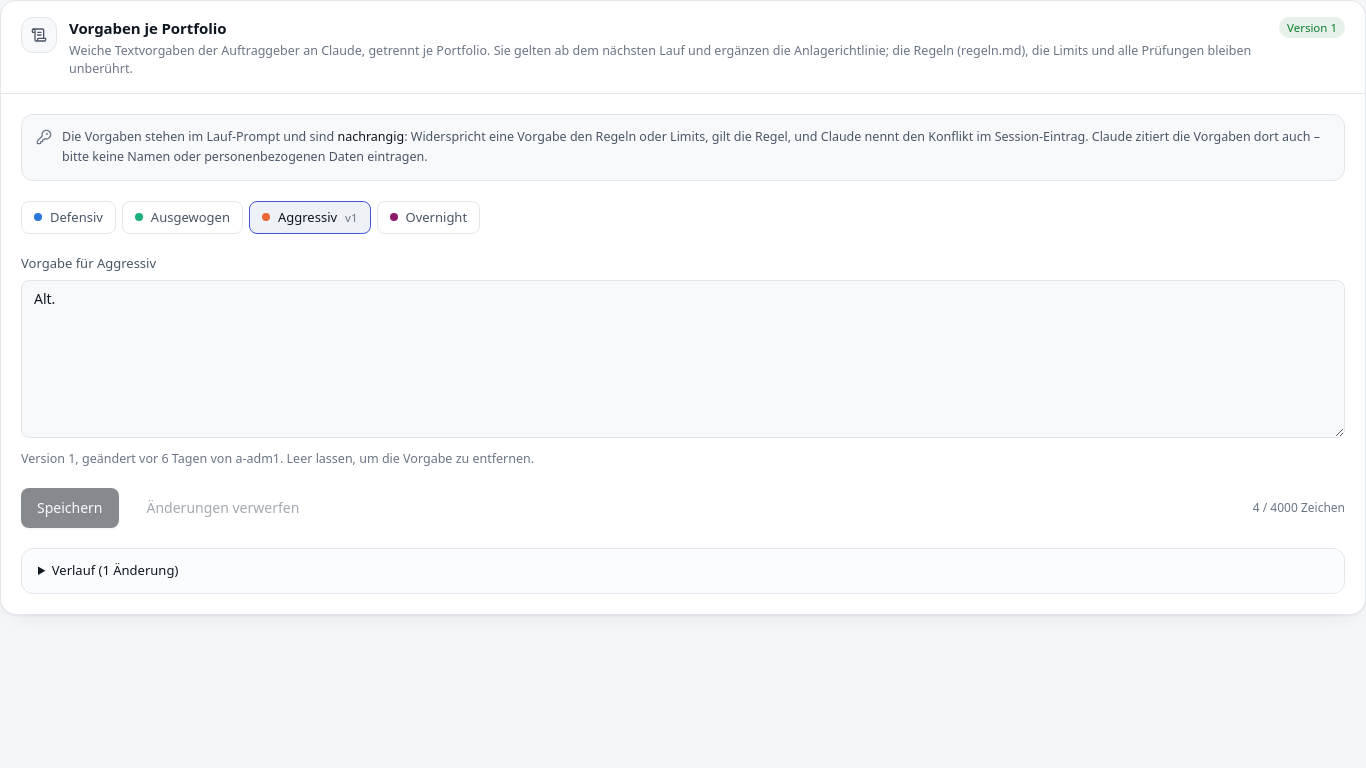
Vorgaben je Portfolio (Einrichtung) › zeigt Stand und Verlauf, speichert eine neue Version und meldet, ab wann sie gilt
Expected: the text "Version 1" is shown, [1279,17,1345,38]
Expected: the button "Speichern" is disabled, [21,488,118,528]
Replace the text in the text box labelled "Vorgabe für Aggressiv" with "Neu gefasst." at [683, 359], box [21,280,1345,438]
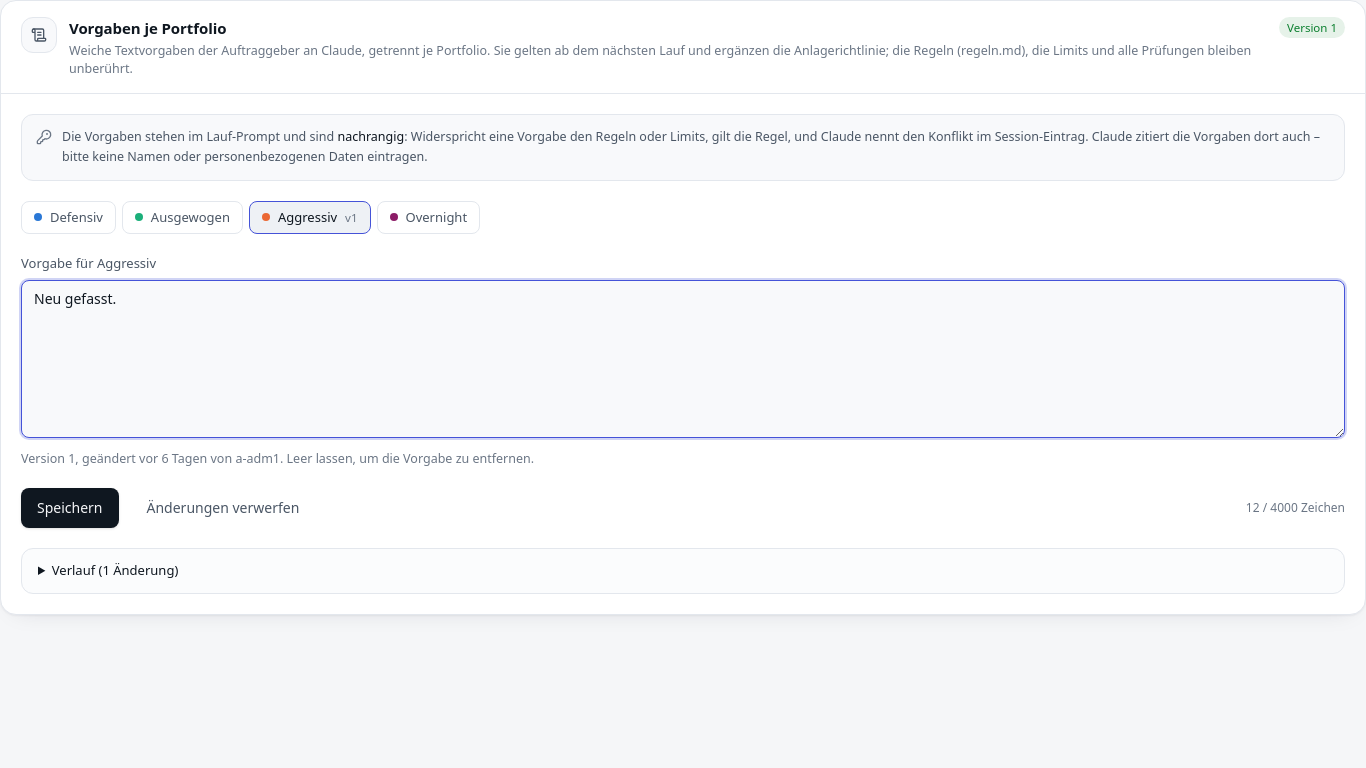
Expected: the button "Speichern" is enabled
Expected: the text "12 / 4000 Zeichen" is shown, [1246,499,1345,517]
Click the button "Speichern" at [70, 508], box [21,488,118,528]
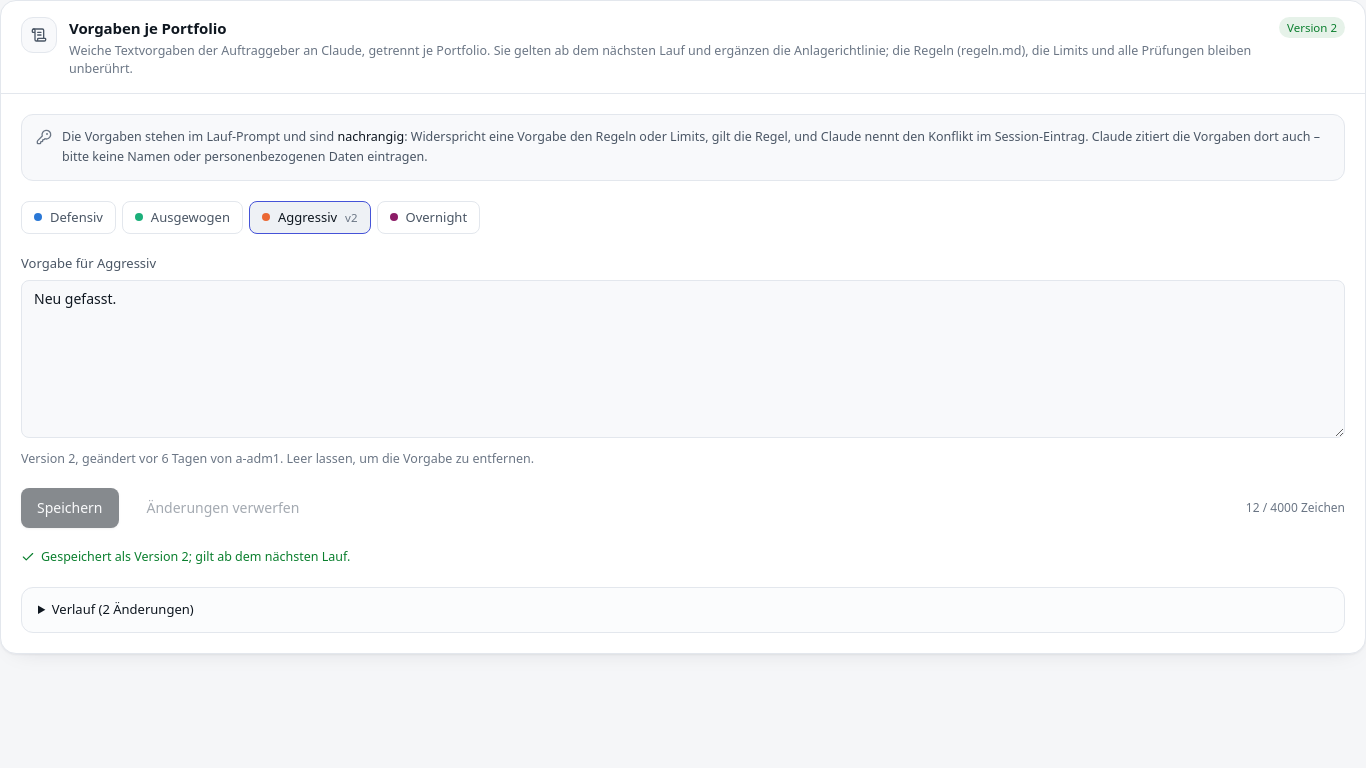
Expected: the text "Gespeichert als Version 2; gilt ab dem nächsten Lauf." is shown, [41,548,350,567]
Expected: the heading "Verlauf (2 Änderungen)" is shown, [52,600,194,618]
